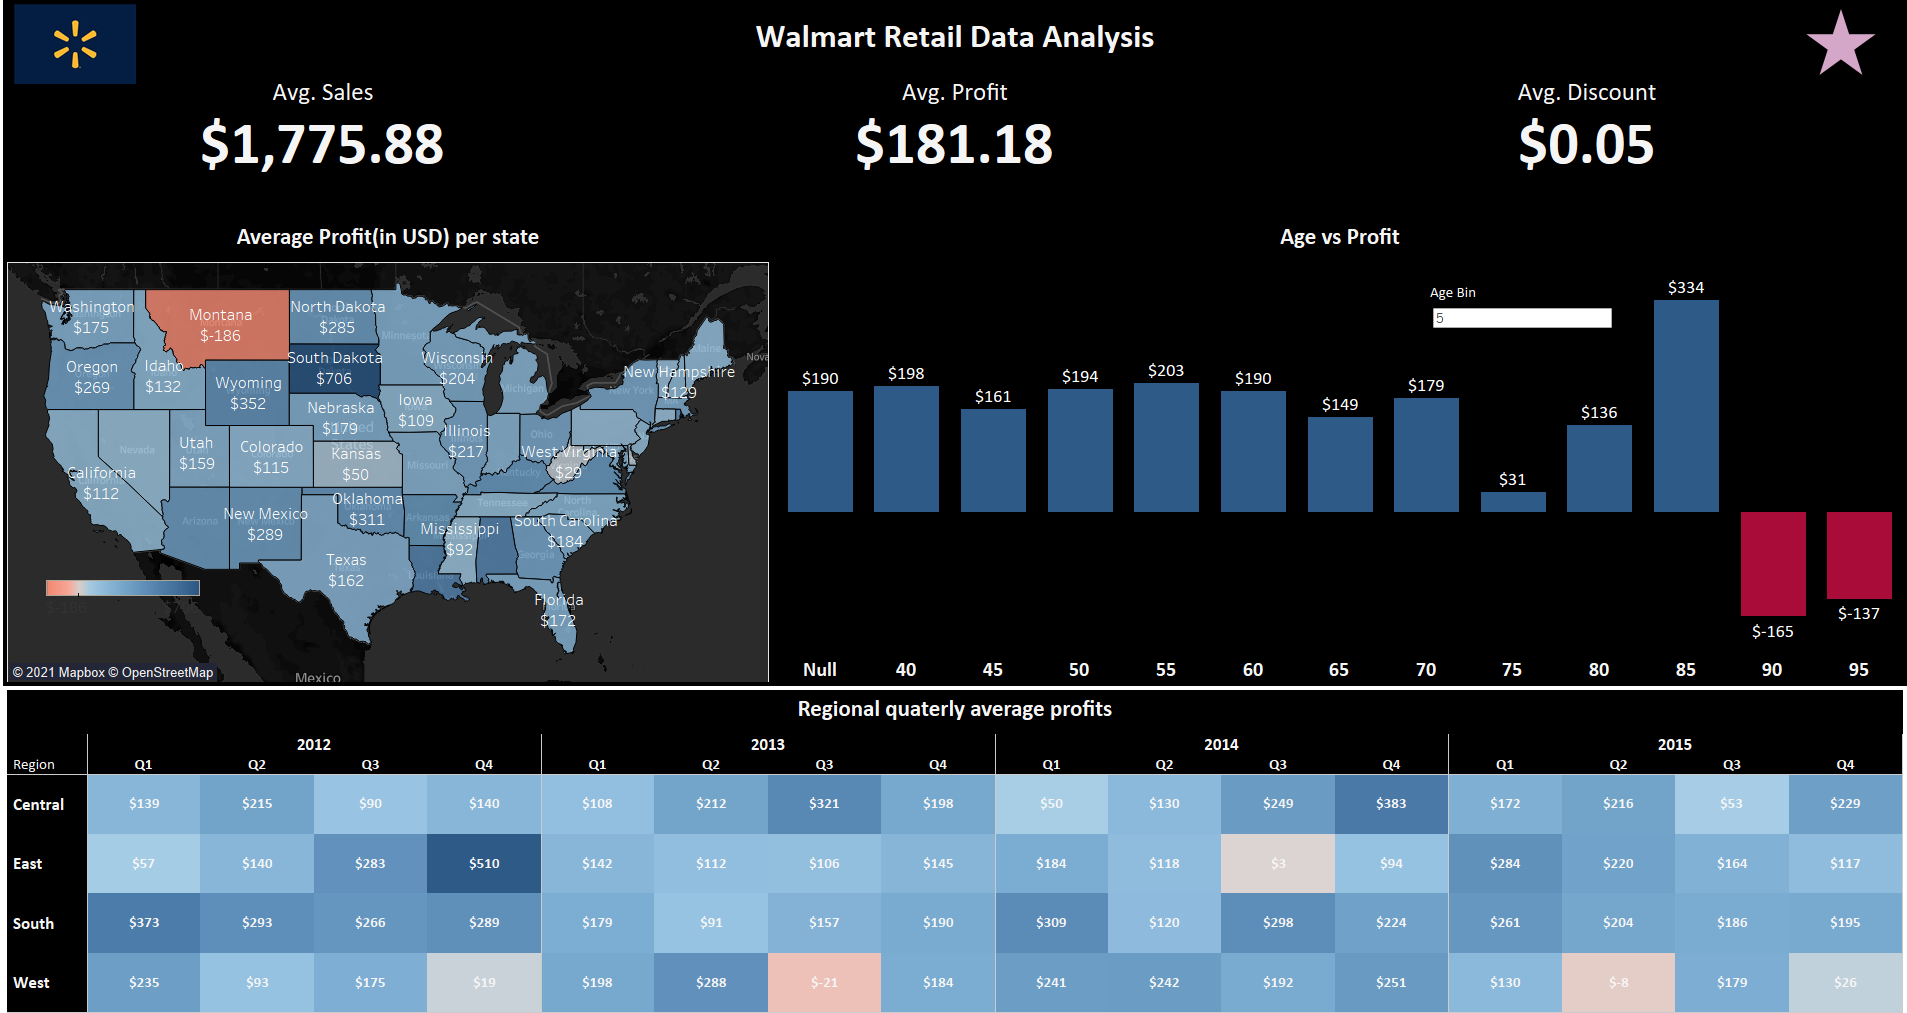

What the dashboard file says about the page in this screenshot:
{"tool":"tableau","page":{"name":"Dashboard 1","canvas":[1000,1000],"units":"permille","ordinal":0},"visuals":[{"type":"text","box":[4.8,8.8,990.4,82.3]},{"type":"worksheet","title":"Dataset Info","mark":"Shape","box":[935.5,9.9,51.8,79]},{"type":"image","param":"Image/download.jpg","box":[9.6,12.1,65.7,76.8]},{"type":"worksheet","title":"Av Measures","mark":"Automatic","box":[4.8,91.1,990.4,122.9]},{"type":"worksheet","title":"state vs profit","mark":"Multipolygon","box":[4.8,214,464.1,452.3]},{"type":"worksheet","title":"age vs profit","mark":"Automatic","rows":["Profit"],"cols":["Customer Age (bin)"],"box":[468.9,214,526.1,452.3]},{"type":"parameter","param":"[Parameters].[Parameter 1]","box":[747.4,279.9,96.4,52.7]},{"type":"legend","title":"state vs profit","param":"[federated.0riwfxa1qqlep316hmawn1s4qkov].[avg:Profit:qk]","box":[24.7,560.9,84.4,47.2]},{"type":"worksheet","title":"regional profit","mark":"Square","rows":["Region"],"cols":["Order Date","Order Date"],"box":[4.8,666.3,990.4,324.9]}]}

Visuals, with their boxes on the dashboard's canvas, which has no fixed pixel size, in thousandths of its width and height (x1, y1, x2, y2). These are canvas units, not pixel positions in the 1907x1013 screenshot, which may show the page scaled, cropped or inside an application window:
text: bbox=(5, 9, 995, 91)
"Dataset Info" worksheet (Shape marks): bbox=(936, 10, 987, 89)
image: bbox=(10, 12, 75, 89)
"Av Measures" worksheet: bbox=(5, 91, 995, 214)
"state vs profit" worksheet (Multipolygon marks): bbox=(5, 214, 469, 666)
"age vs profit" worksheet: bbox=(469, 214, 995, 666)
parameter: bbox=(747, 280, 844, 333)
"state vs profit" legend: bbox=(25, 561, 109, 608)
"regional profit" worksheet (Square marks): bbox=(5, 666, 995, 991)
